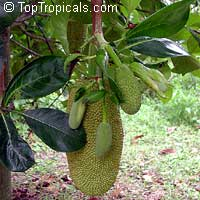jackfruit: (64, 74, 124, 197)
